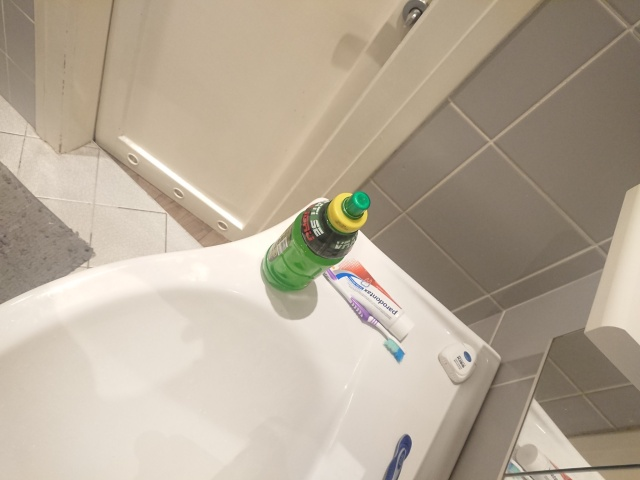Vindi Iso Sport Lemon-Grapefruit 500mL: (258, 188, 373, 295)
